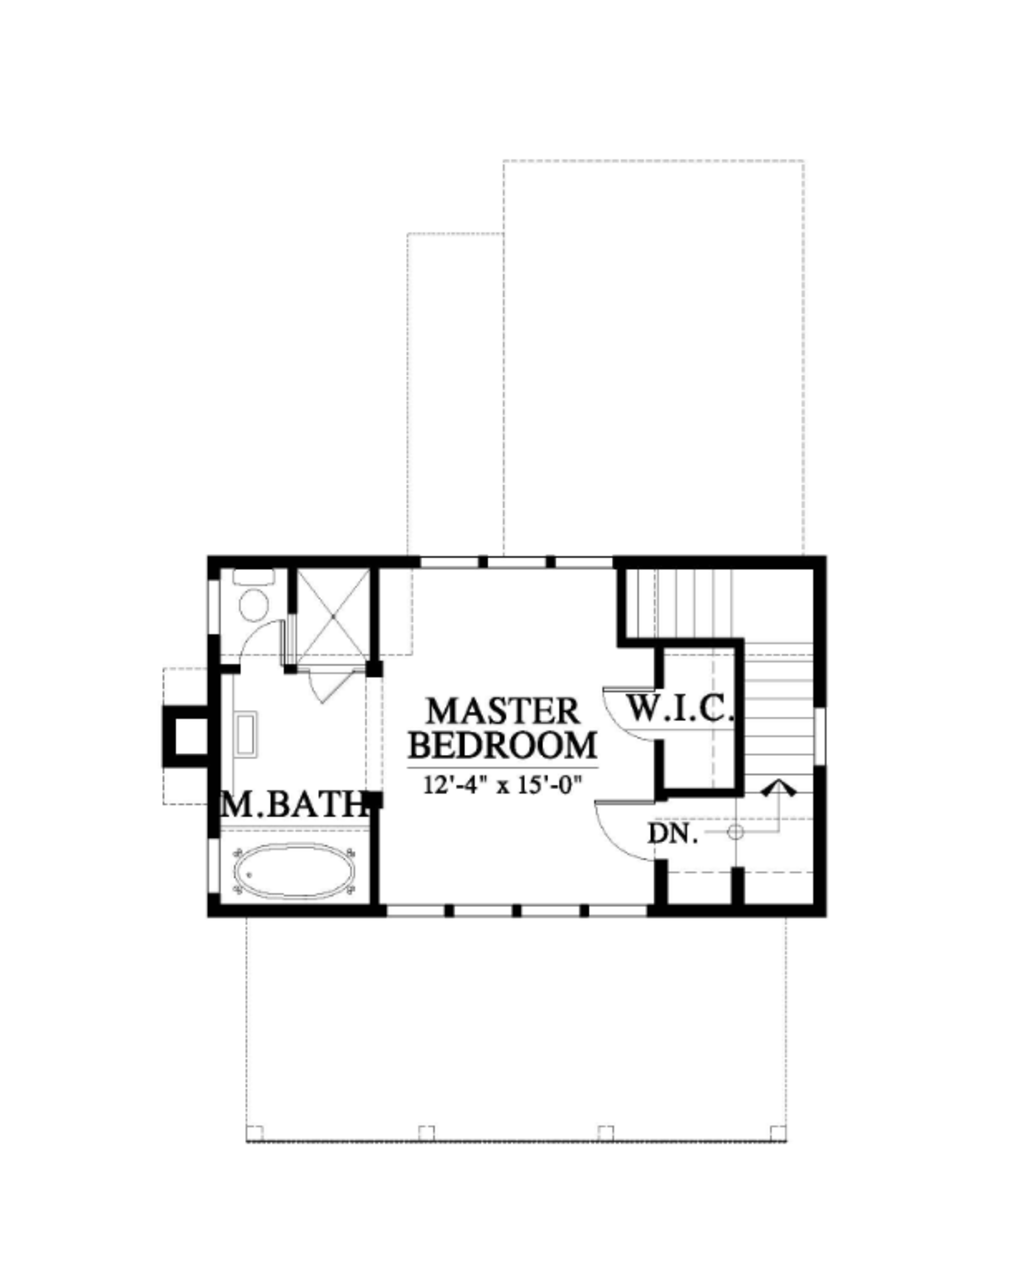door: (585, 794, 664, 860), (231, 620, 289, 678)
large_sink: (223, 562, 277, 628)
stairs: (719, 563, 819, 872)
tub: (215, 829, 366, 908)
windows: (379, 899, 660, 928), (412, 547, 615, 579)
